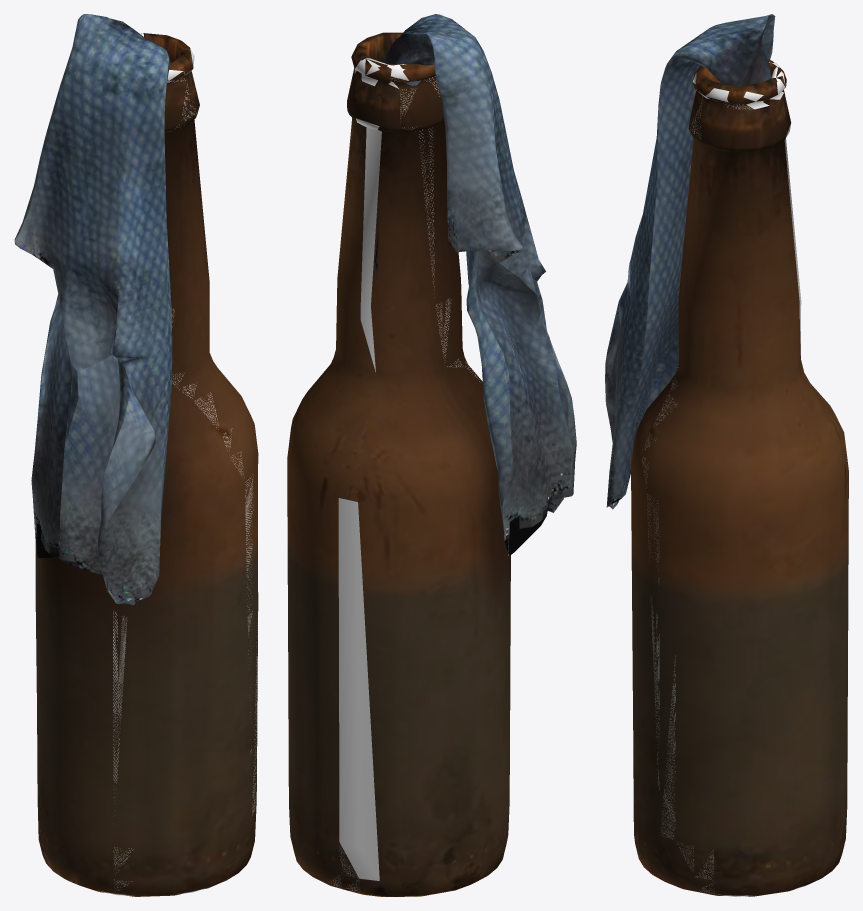
The model's file is molotov_cocktail_liquid.glb.
The picture shows the model from 3 angles, left to right: view 1: azimuth 30°, elevation 25°; view 2: azimuth 150°, elevation 25°; view 3: azimuth 270°, elevation 25°; orthographic projection. The views are drawn at different scales.
Visible parts, largest first — view 1: molotov_cocktail_bottle_LOD0, molotov_cocktail_cloth_LOD0, molotov_cocktail_bottle_backfaced; view 2: molotov_cocktail_bottle_LOD0, molotov_cocktail_cloth_LOD0, molotov_cocktail_bottle_backfaced; view 3: molotov_cocktail_bottle_LOD0, molotov_cocktail_cloth_LOD0, molotov_cocktail_bottle_backfaced.
Part boxes in pixels (x1=…): molotov_cocktail_bottle_LOD0: x1=35, y1=33, x2=258, y2=896; molotov_cocktail_cloth_LOD0: x1=14, y1=14, x2=172, y2=605; molotov_cocktail_bottle_backfaced: x1=98, y1=33, x2=257, y2=895; molotov_cocktail_bottle_LOD0: x1=287, y1=32, x2=510, y2=896; molotov_cocktail_cloth_LOD0: x1=383, y1=14, x2=576, y2=556; molotov_cocktail_bottle_backfaced: x1=331, y1=58, x2=479, y2=892; molotov_cocktail_bottle_LOD0: x1=631, y1=59, x2=848, y2=896; molotov_cocktail_cloth_LOD0: x1=605, y1=14, x2=775, y2=509; molotov_cocktail_bottle_backfaced: x1=642, y1=62, x2=808, y2=896.
Bounding box in the file's own units: 0.0731 × 0.2591 × 0.0698.
2 materials, 1 textured.
